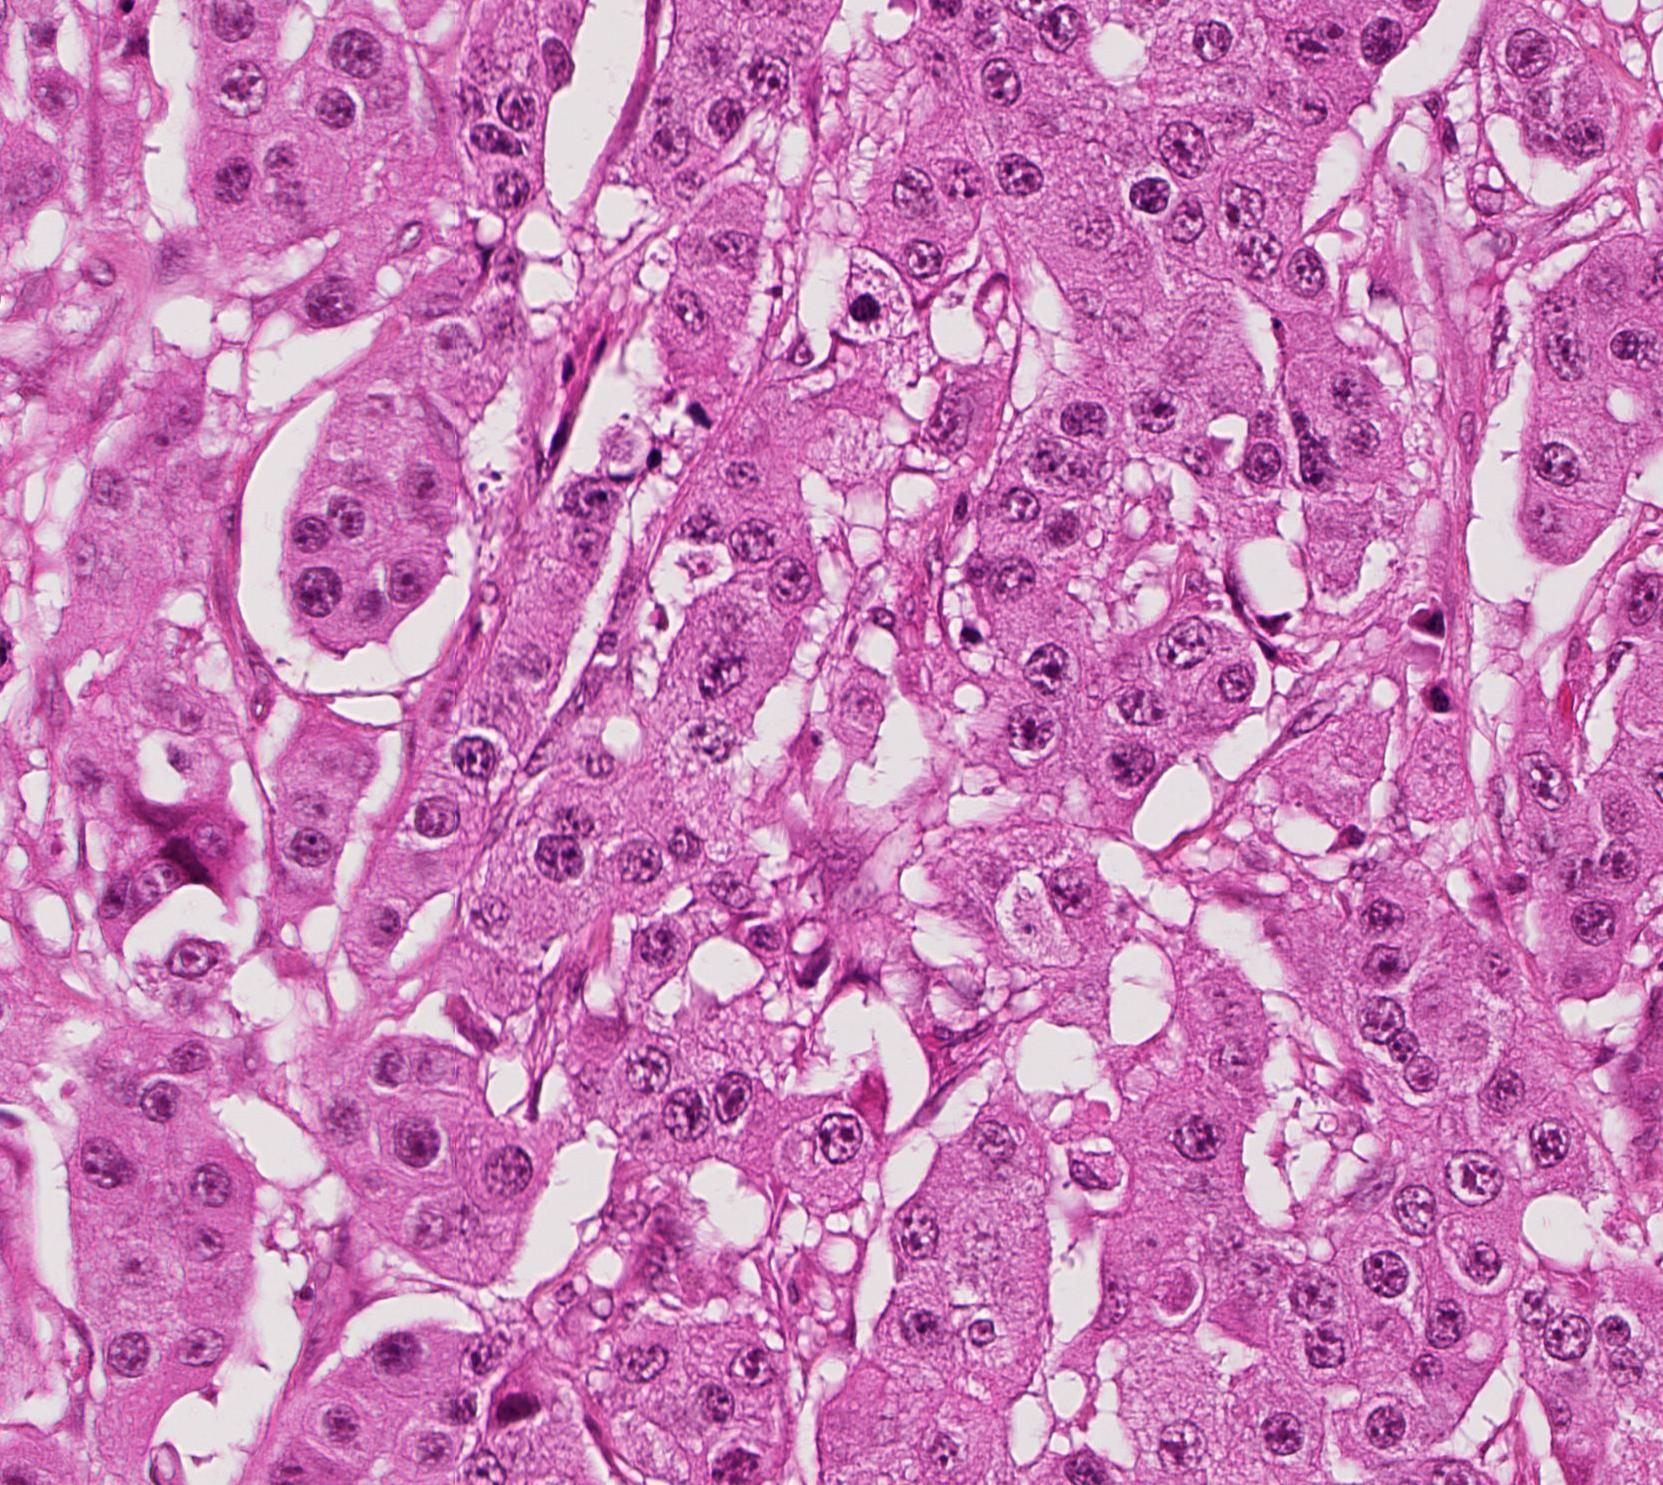mitosis: (844, 272, 905, 333)
